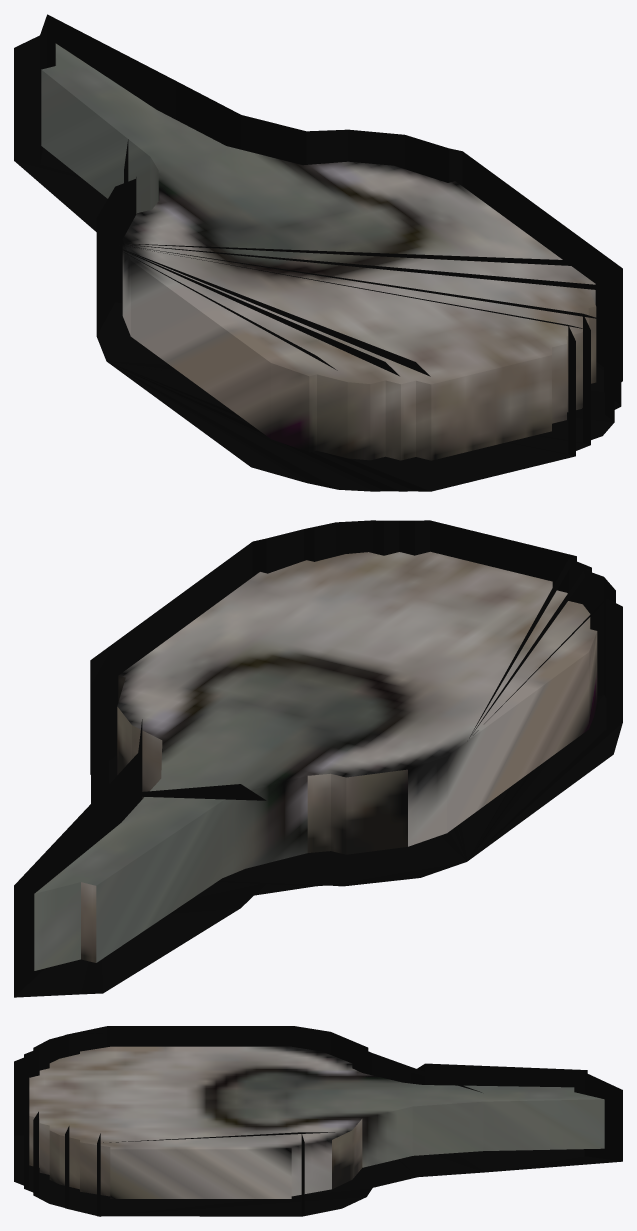
Rendered from Building_AncientLamppost_Things_Building_Ruins_AncientLamppost_AncientLamppostB.glb.
The picture shows the model from 3 angles, top to bottom: view 1: azimuth 30°, elevation 25°; view 2: azimuth 150°, elevation 25°; view 3: azimuth 270°, elevation 25°; orthographic projection. The views are drawn at different scales.
Visible parts, largest first — view 1: Body, Outline; view 2: Body, Outline; view 3: Body, Outline.
Boxes of the visible parts, left/top/right/bottom form: Body: left=41, top=43, right=596, bottom=460; Outline: left=14, top=14, right=622, bottom=491; Body: left=34, top=551, right=597, bottom=970; Outline: left=14, top=520, right=622, bottom=997; Body: left=29, top=1046, right=604, bottom=1198; Outline: left=14, top=1026, right=622, bottom=1216.
Bounding box in the file's own units: 0.3768 × 0.1292 × 0.8421.
2 materials, 1 textured.
